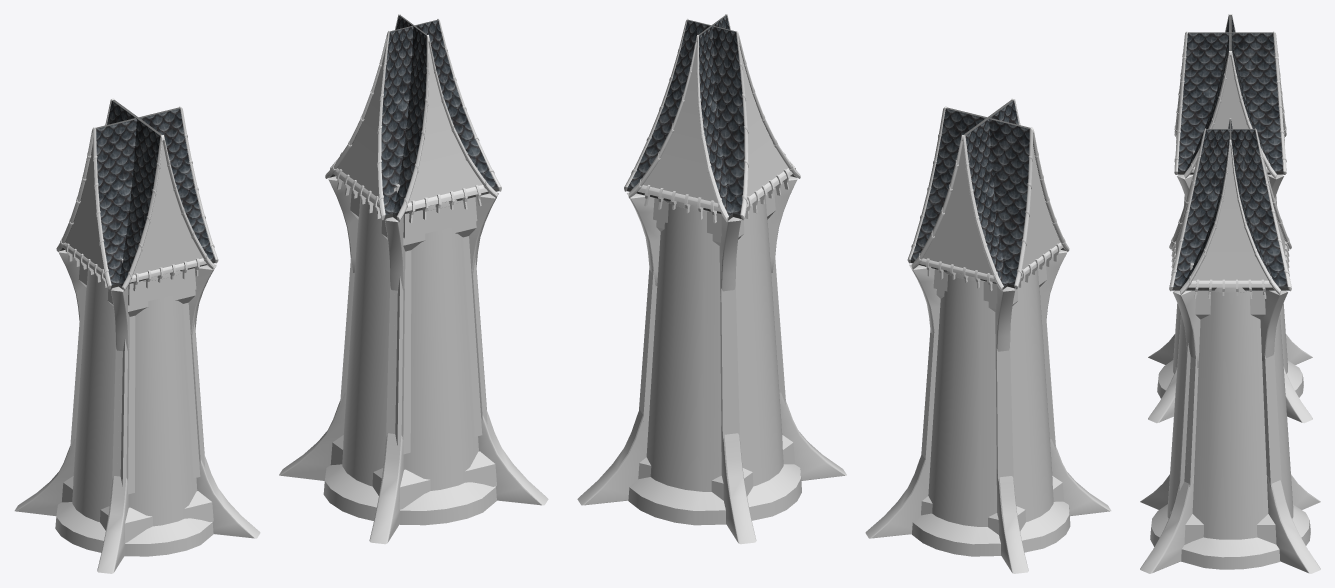
Rendered from Misc_Tower_1A1.fbx.
The picture shows the model from 3 angles, left to right: view 1: azimuth 30°, elevation 25°; view 2: azimuth 150°, elevation 25°; view 3: azimuth 270°, elevation 25°; orthographic projection. The views are drawn at different scales.
Parts seen in each view (by area): view 1: Misc_Tower_1A2, Misc_Tower_1A1; view 2: Misc_Tower_1A2, Misc_Tower_1A1; view 3: Misc_Tower_1A2, Misc_Tower_1A1.
Part boxes in pixels (bbox=[...]): Misc_Tower_1A2: bbox=[279, 14, 548, 544]; Misc_Tower_1A1: bbox=[14, 98, 260, 573]; Misc_Tower_1A2: bbox=[577, 14, 846, 544]; Misc_Tower_1A1: bbox=[865, 98, 1111, 573]; Misc_Tower_1A2: bbox=[1140, 118, 1320, 573]; Misc_Tower_1A1: bbox=[1148, 14, 1312, 423].
Size of the model in its own units: 4296 by 4259 by 1714.
